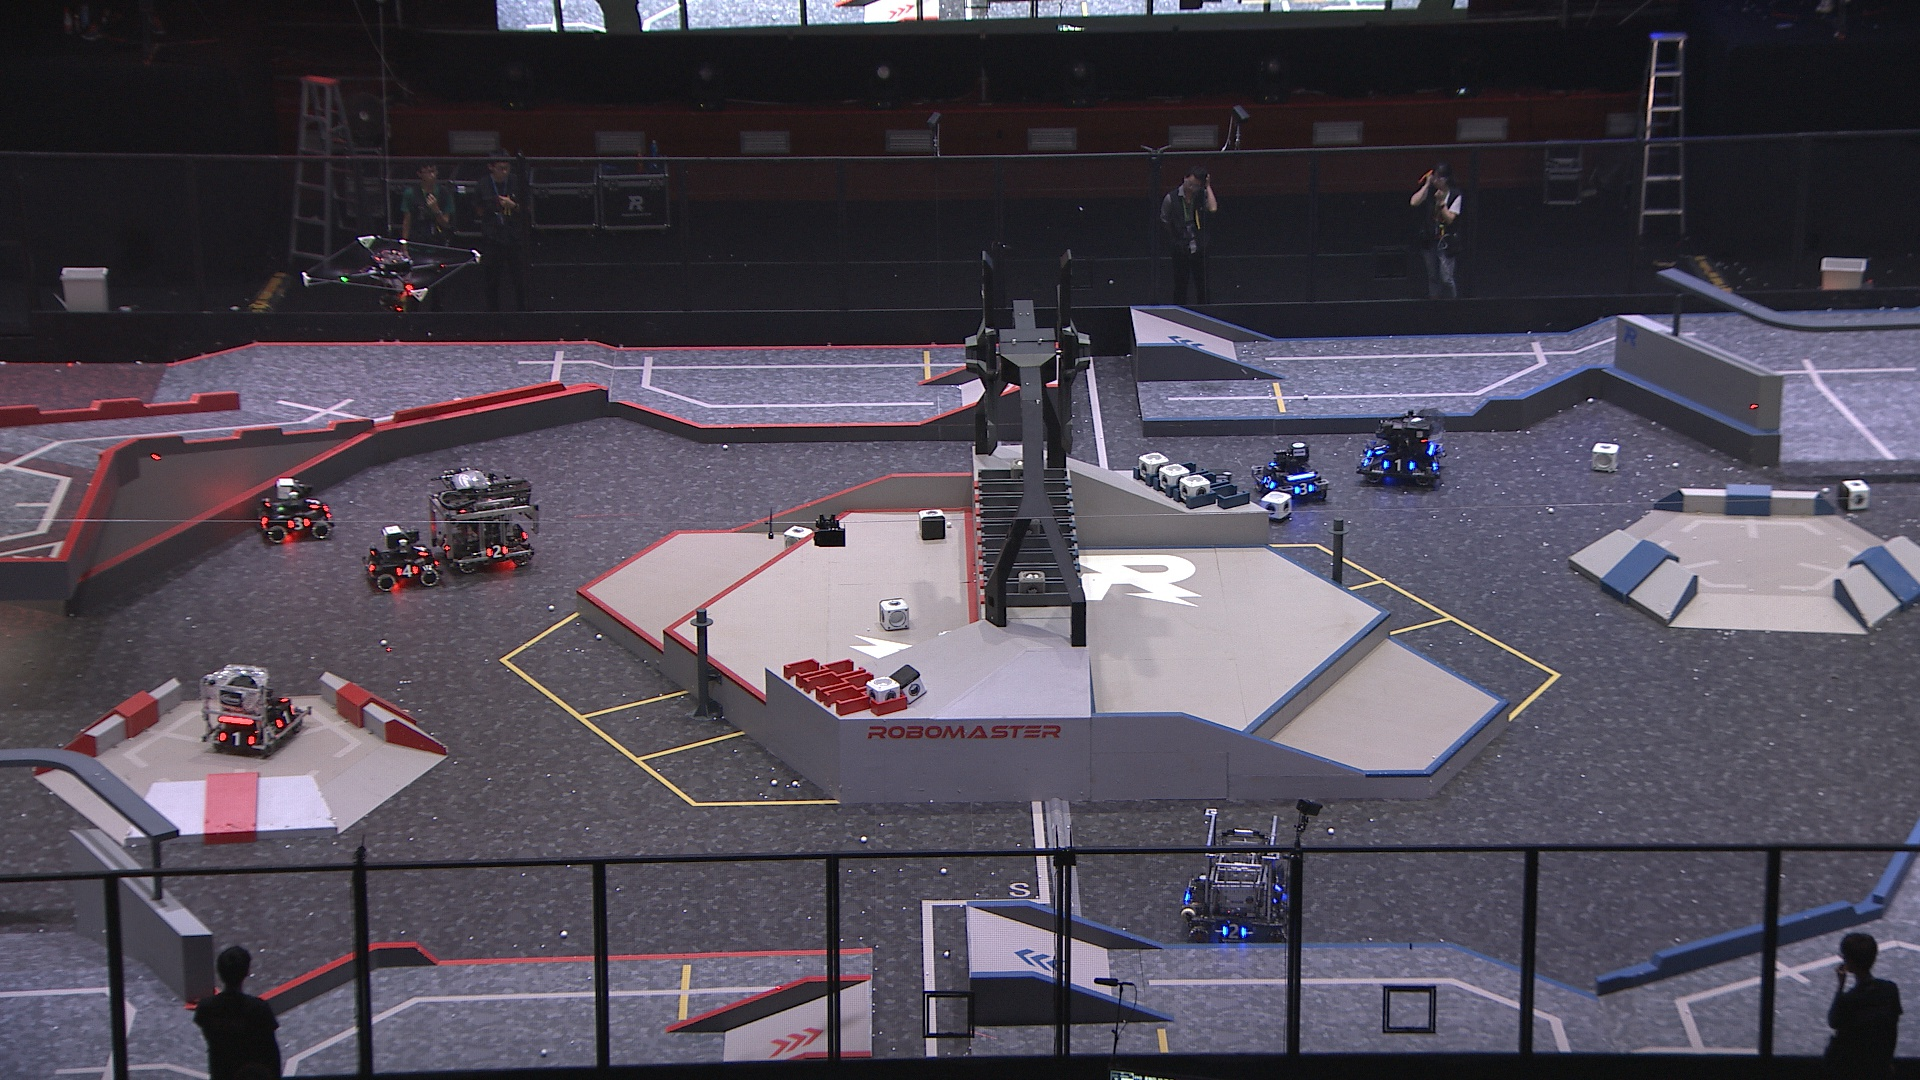armor: (216, 731, 257, 749), (1381, 456, 1419, 473), (1220, 920, 1245, 943), (276, 707, 297, 731), (485, 543, 510, 560), (286, 516, 313, 531), (396, 564, 419, 580), (1292, 483, 1313, 498), (414, 543, 433, 559), (302, 495, 320, 510), (1261, 475, 1278, 491), (436, 538, 451, 556), (1371, 442, 1389, 455), (1433, 455, 1444, 472)
car: (1179, 804, 1291, 945), (429, 462, 538, 574), (199, 665, 310, 760), (1354, 411, 1447, 487), (363, 524, 442, 593), (256, 477, 338, 545), (1251, 440, 1331, 501)
